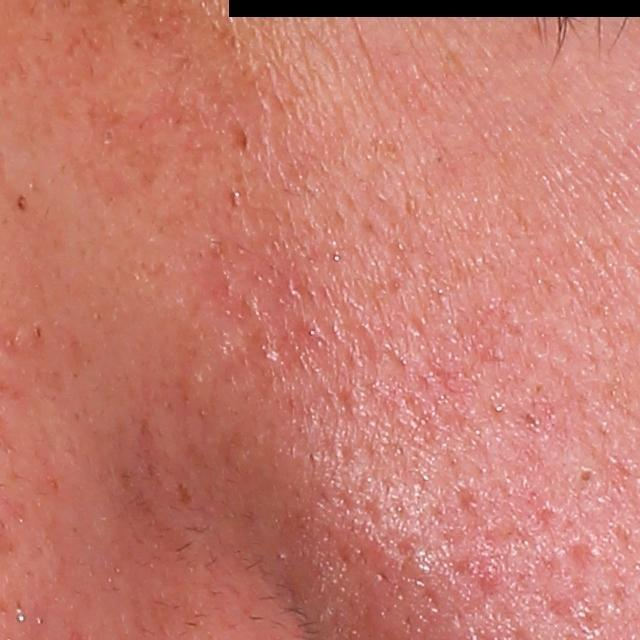atrophic_scar: (479, 513, 539, 554), (563, 537, 596, 570)
comedo: (575, 465, 593, 489)
